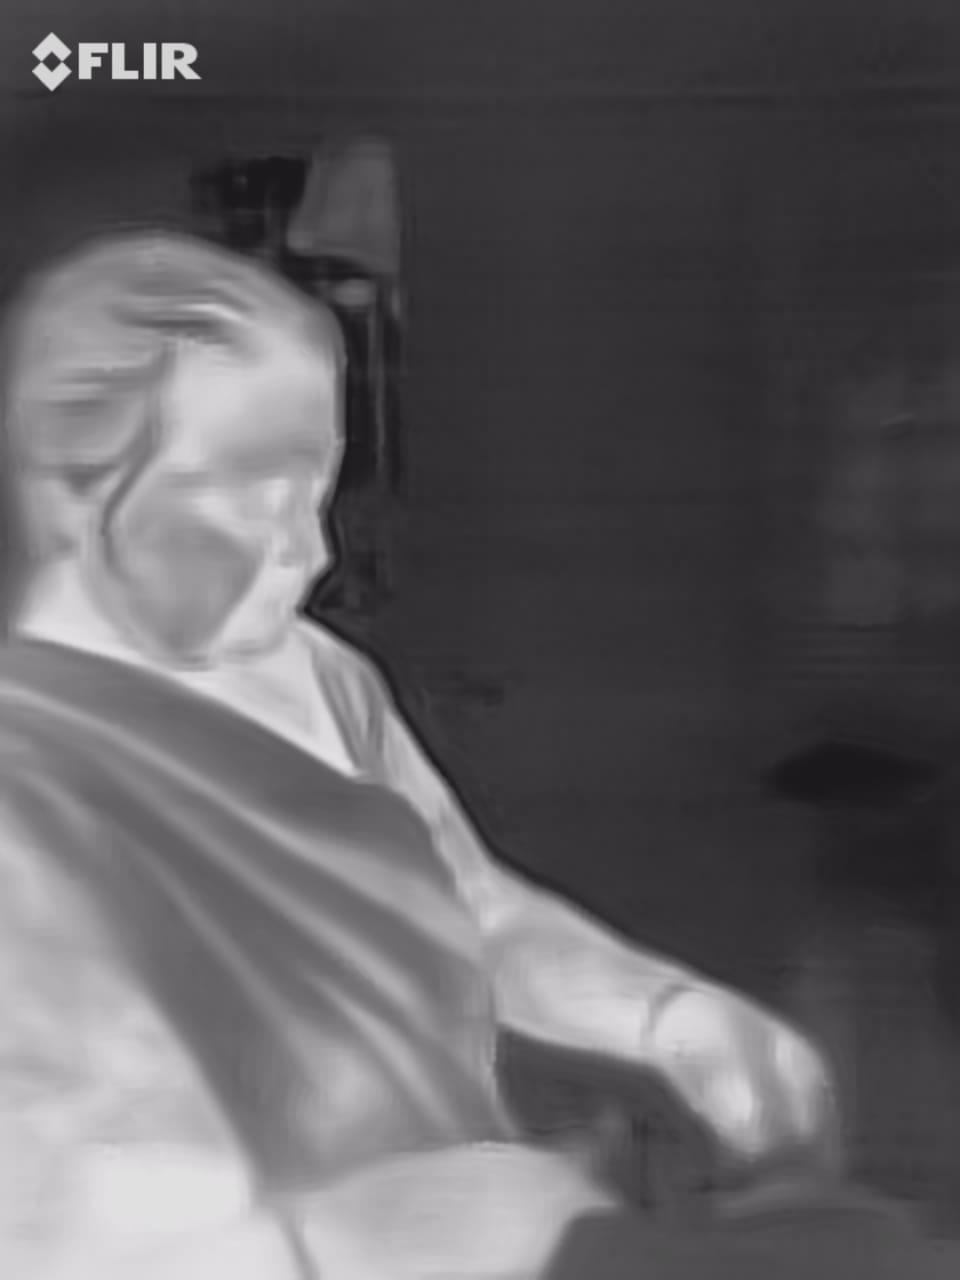head: (3, 222, 352, 700)
